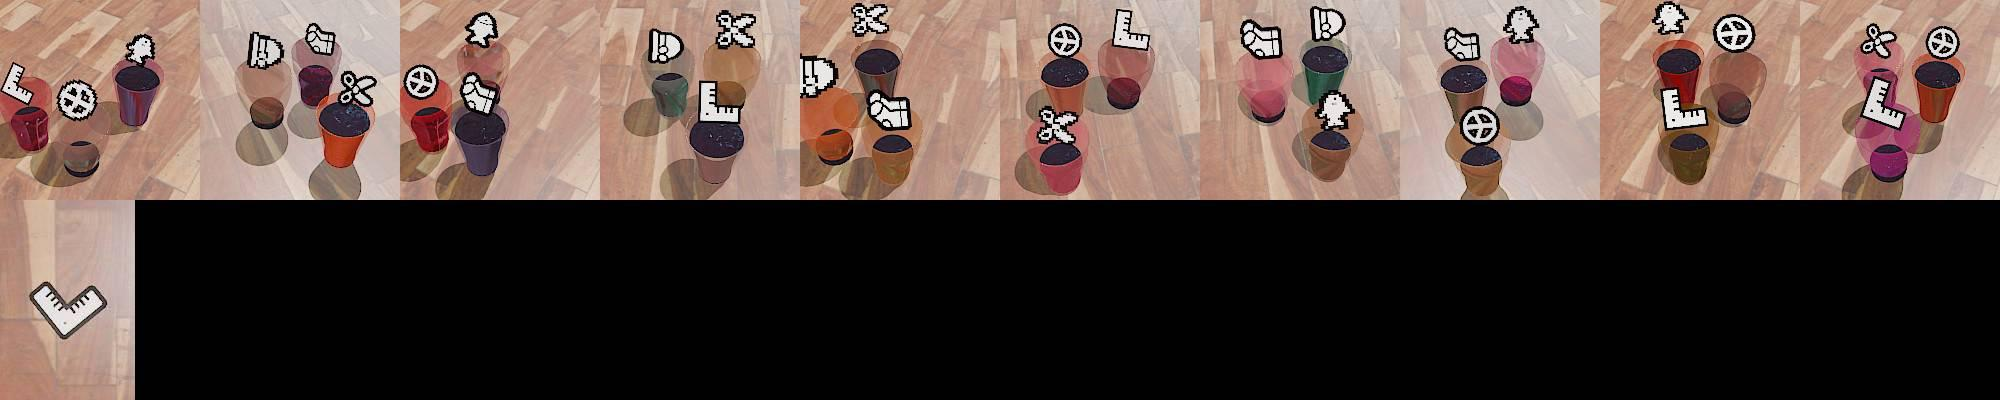icon: (27, 281, 110, 342), (1859, 73, 1909, 129), (1659, 87, 1710, 130), (699, 77, 745, 124), (459, 69, 501, 116), (1110, 8, 1152, 53), (867, 90, 913, 131), (1241, 18, 1284, 60), (714, 9, 758, 50), (1037, 104, 1078, 147), (1711, 14, 1755, 54), (1314, 89, 1356, 130), (57, 79, 98, 121), (800, 55, 839, 98), (0, 61, 35, 107), (1501, 5, 1540, 45), (1460, 106, 1499, 145), (247, 31, 285, 71), (338, 71, 377, 109), (1651, 1, 1691, 37), (850, 2, 891, 37), (462, 11, 499, 49), (1443, 26, 1482, 62), (403, 64, 440, 101), (1310, 5, 1346, 43), (648, 27, 684, 65), (1046, 22, 1082, 59), (1860, 23, 1898, 58), (1925, 25, 1960, 60), (303, 22, 337, 57), (124, 33, 156, 66)
